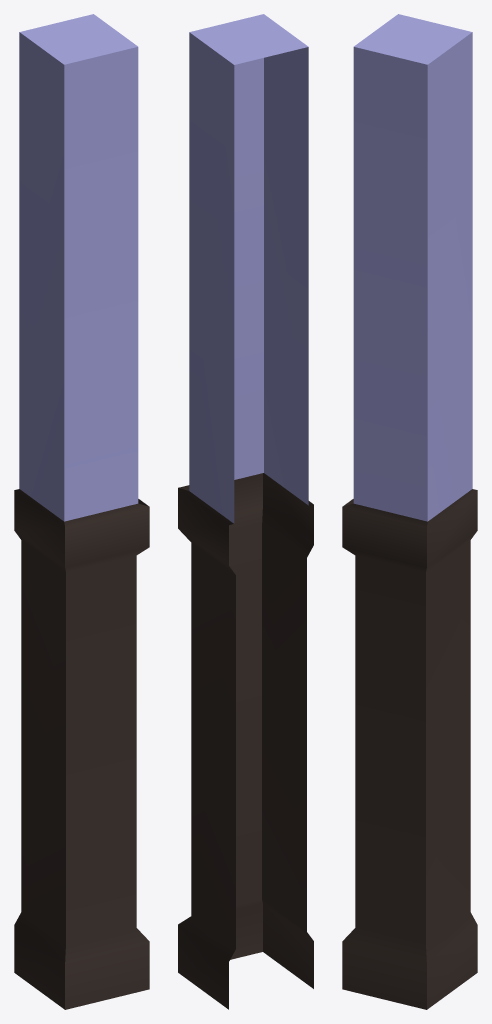
File: Wall Joint.fbx
3 views of the same model, side by side, from view 1: azimuth 30°, elevation 25°; view 2: azimuth 210°, elevation 25°; view 3: azimuth 330°, elevation 25° (orthographic).
Parts seen in each view (by area): view 1: pCube2; view 2: pCube2; view 3: pCube2.
Part boxes in pixels (x1,y1,x2,y2): pCube2: (14, 14, 149, 1009); pCube2: (178, 14, 313, 1009); pCube2: (342, 14, 477, 1009).
Size of the model in its own units: 12 by 128 by 12.5.
